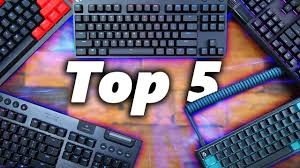keyboard: (70, 0, 231, 57)
